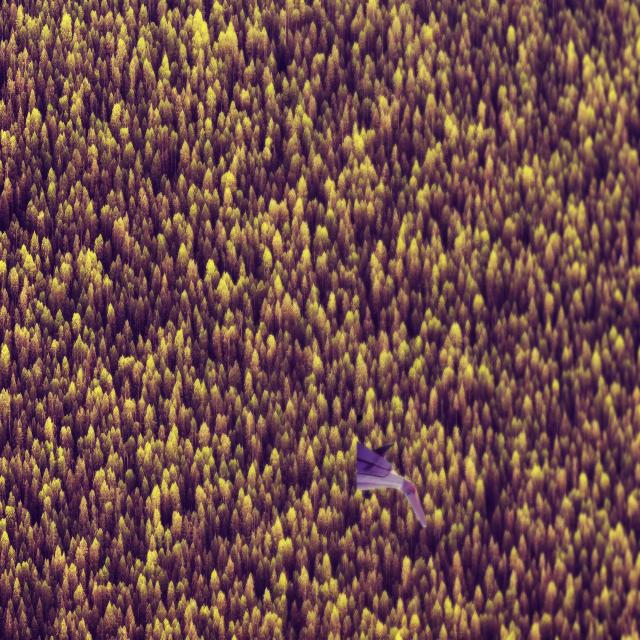airplane: (355, 440, 427, 529)
